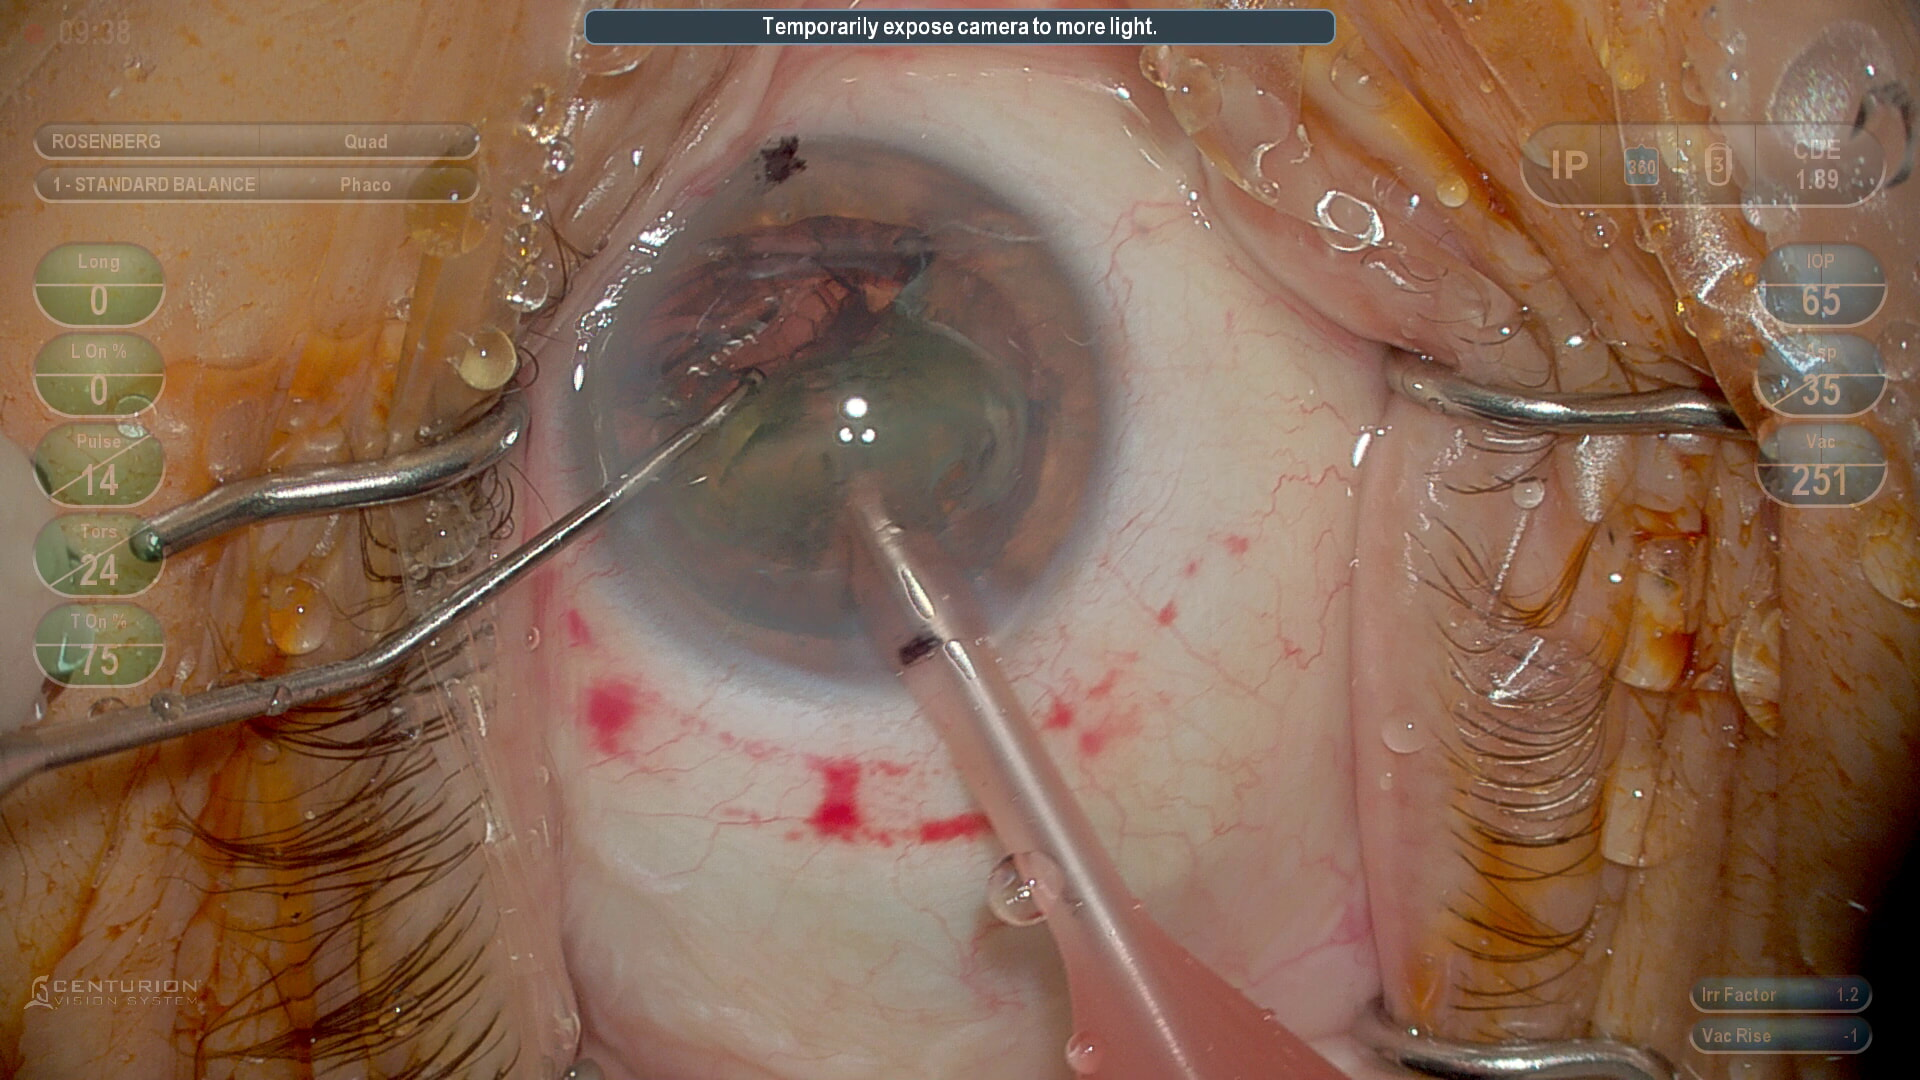iris: (576, 151, 1103, 670)
pupil: (637, 224, 1037, 624)
